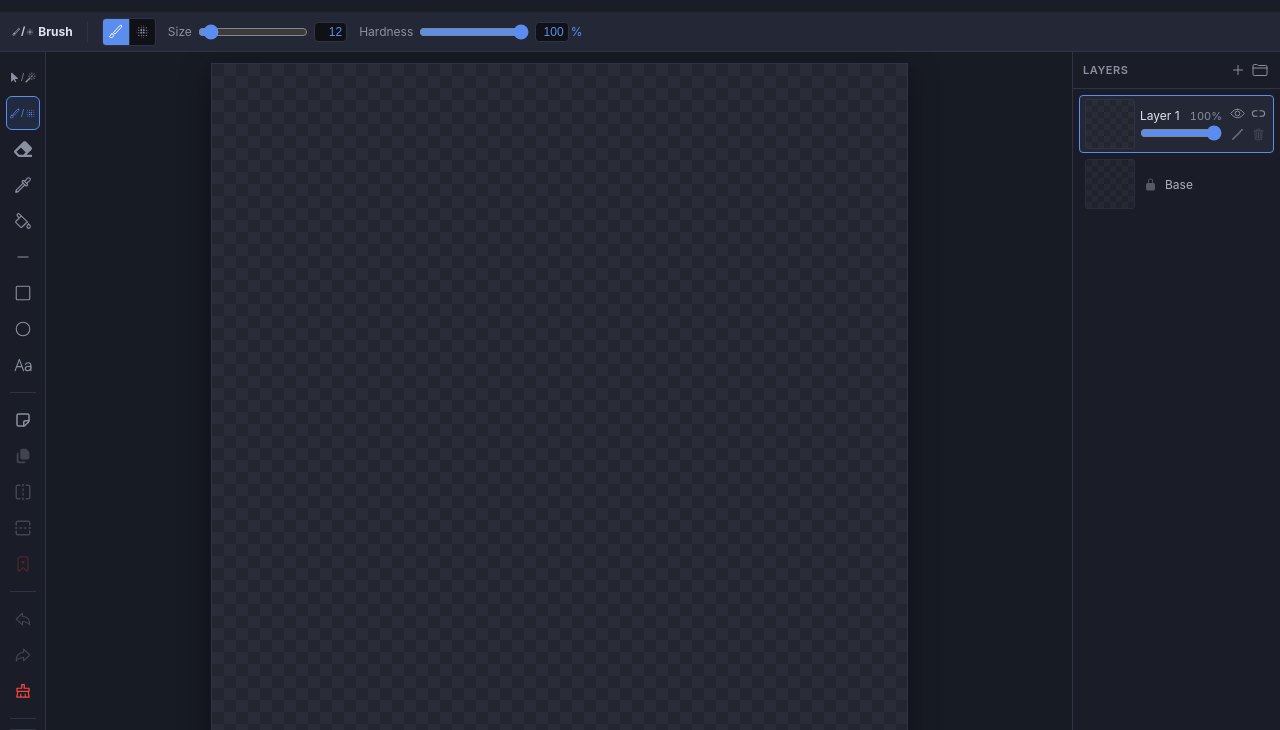
layer panel — structure › renames a layer from the panel and pushes it back on export
Click the button named "Rename layer": (1237, 134) [1227,124,1247,144]
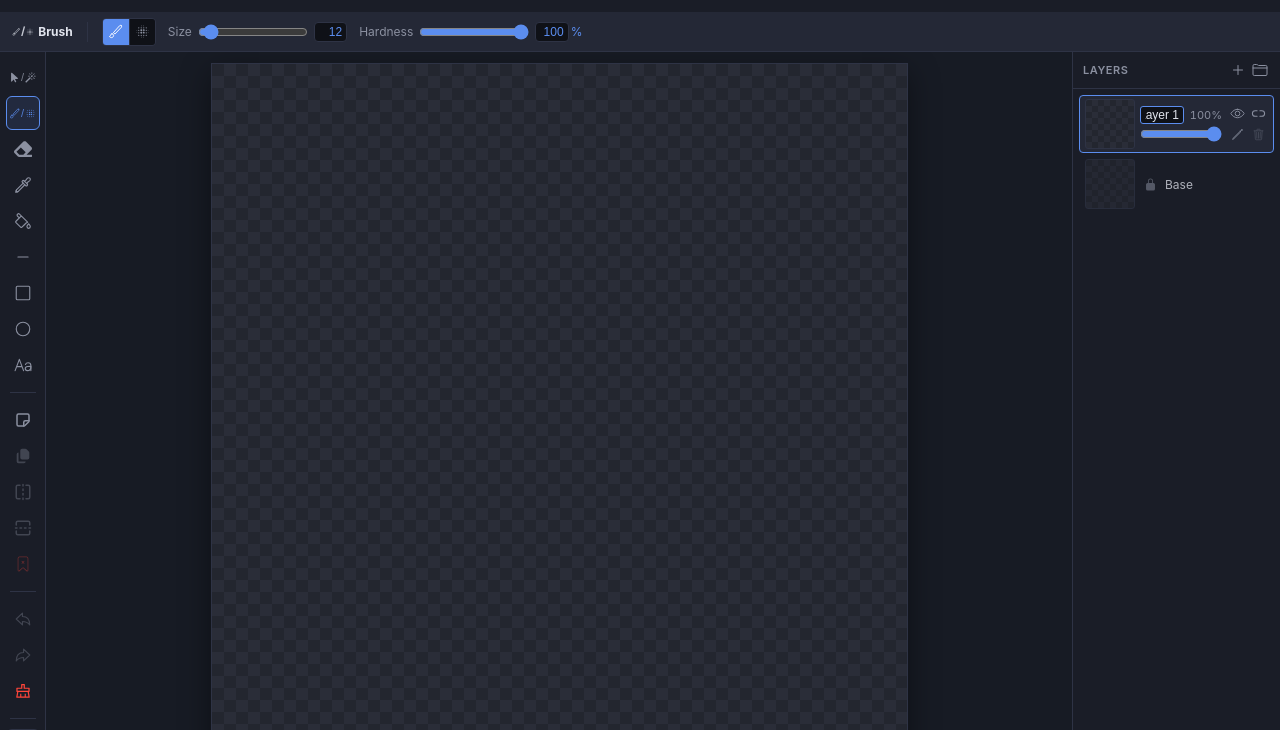
Replace the text in the field named "Rename layer" with "Fuselage art": (1162, 115) [1140,106,1184,124]
Then press Enter
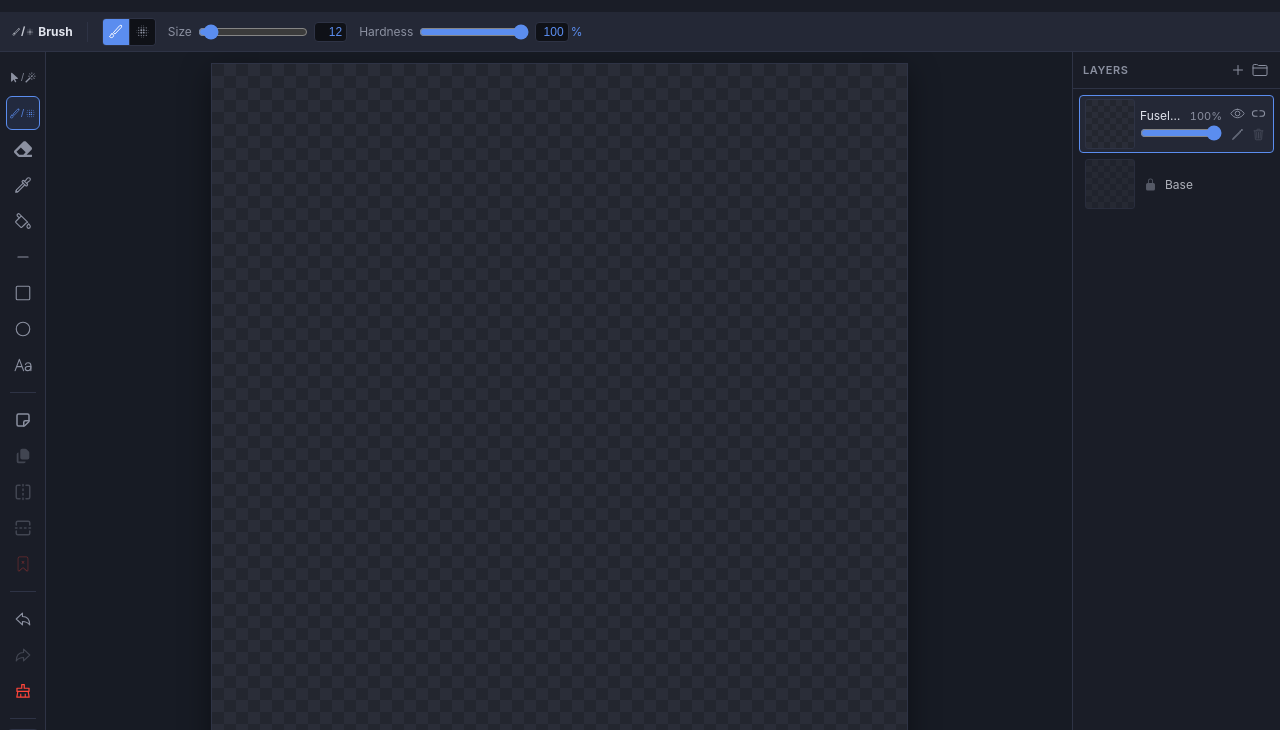
Expected: the text "Fuselage art" is shown, [1140,108,1184,122]
